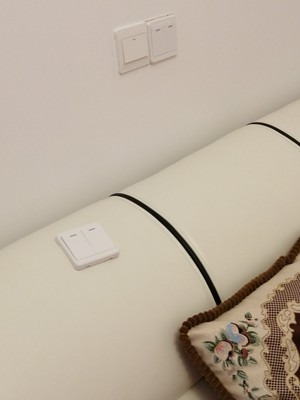switch: (59, 230, 95, 265), (118, 31, 152, 65), (80, 224, 115, 256), (161, 16, 182, 56), (147, 19, 167, 57)
